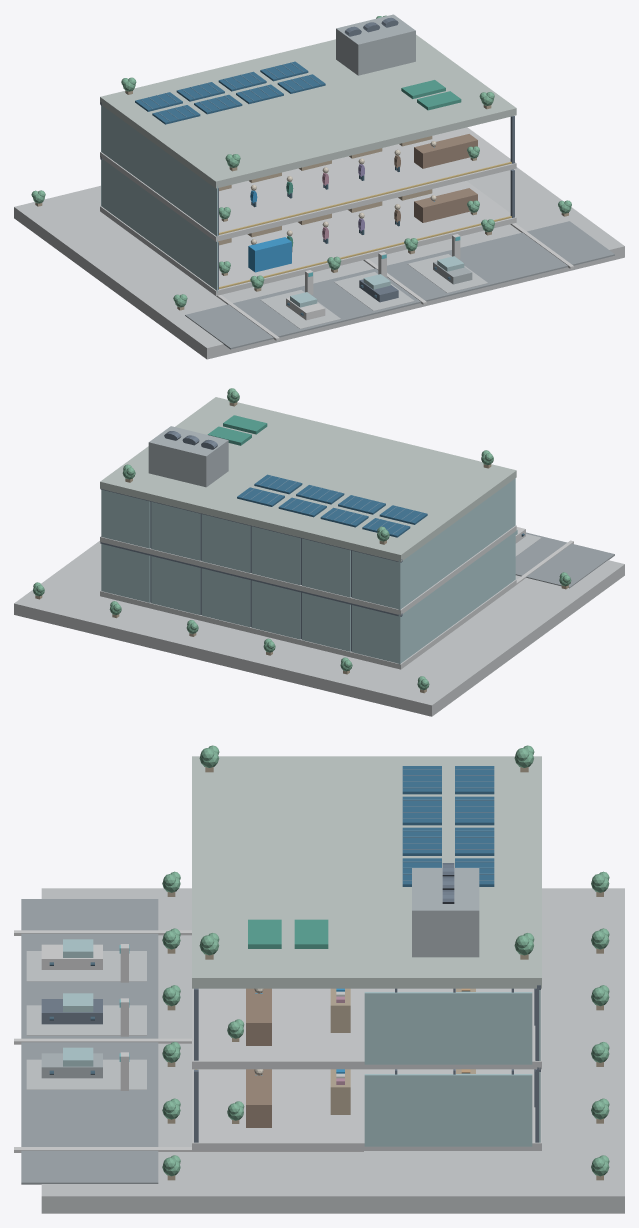
File: smart_retail.glb
The picture shows the model from 3 angles, top to bottom: view 1: azimuth 30°, elevation 25°; view 2: azimuth 150°, elevation 25°; view 3: azimuth 270°, elevation 25°; orthographic projection. The views are drawn at different scales.
Visible parts, largest first — view 1: GreenRoof_0308, SitePlinth_0001, FloorSlab_2_0195, EVParking_0002, FloorSlab_1_0081, WestFacade_0092, WestFacade_0206, PlantRoom_0365, Checkout_0275, Checkout_0161, ClickAndCollect_0186, ParkingBay_0012 (+14 smaller); view 2: GreenRoof_0308, SitePlinth_0001, WestFacade_0092, WestFacade_0206, PlantRoom_0365, EVParking_0002, FloorSlab_1_0081, FloorSlab_2_0195, RearGlass_0096, RearGlass_0097, RearGlass_0209, RearGlass_0095 (+19 smaller); view 3: GreenRoof_0308, SitePlinth_0001, EVParking_0002, FloorSlab_2_0195, FloorSlab_1_0081, SideGlass_0106, SideGlass_0220, PlantRoom_0365, ParkingBay_0003, ParkingBay_0012, ParkingBay_0021, Checkout_0161 (+18 smaller).
Boxes of the visible parts, x1=… form: GreenRoof_0308: x1=100, y1=34, x2=516, y2=188; SitePlinth_0001: x1=14, y1=167, x2=624, y2=359; FloorSlab_2_0195: x1=100, y1=127, x2=516, y2=241; EVParking_0002: x1=185, y1=221, x2=614, y2=349; FloorSlab_1_0081: x1=100, y1=181, x2=516, y2=295; WestFacade_0092: x1=101, y1=159, x2=217, y2=292; WestFacade_0206: x1=101, y1=105, x2=217, y2=236; PlantRoom_0365: x1=336, y1=14, x2=415, y2=75; Checkout_0275: x1=414, y1=134, x2=477, y2=168; Checkout_0161: x1=414, y1=188, x2=477, y2=222; ClickAndCollect_0186: x1=248, y1=237, x2=291, y2=272; ParkingBay_0012: x1=334, y1=272, x2=414, y2=310; GreenRoof_0308: x1=100, y1=397, x2=516, y2=561; SitePlinth_0001: x1=14, y1=541, x2=624, y2=716; WestFacade_0092: x1=398, y1=531, x2=515, y2=664; WestFacade_0206: x1=398, y1=478, x2=515, y2=610; PlantRoom_0365: x1=148, y1=426, x2=228, y2=487; EVParking_0002: x1=515, y1=532, x2=614, y2=588; FloorSlab_1_0081: x1=100, y1=579, x2=516, y2=669; FloorSlab_2_0195: x1=100, y1=525, x2=516, y2=615; RearGlass_0096: x1=201, y1=568, x2=250, y2=627; RearGlass_0097: x1=151, y1=556, x2=200, y2=614; RearGlass_0209: x1=251, y1=526, x2=300, y2=585; RearGlass_0095: x1=251, y1=580, x2=300, y2=639; GreenRoof_0308: x1=192, y1=756, x2=541, y2=988; SitePlinth_0001: x1=41, y1=888, x2=624, y2=1213; EVParking_0002: x1=21, y1=899, x2=158, y2=1184; FloorSlab_2_0195: x1=192, y1=988, x2=541, y2=1069; FloorSlab_1_0081: x1=192, y1=1069, x2=541, y2=1150; SideGlass_0106: x1=364, y1=1074, x2=532, y2=1146; SideGlass_0220: x1=364, y1=992, x2=532, y2=1064; PlantRoom_0365: x1=412, y1=868, x2=479, y2=957; ParkingBay_0003: x1=26, y1=951, x2=146, y2=981; ParkingBay_0012: x1=26, y1=1005, x2=146, y2=1035; ParkingBay_0021: x1=26, y1=1059, x2=146, y2=1089; Checkout_0161: x1=246, y1=1069, x2=271, y2=1127.
Size of the model in its own units: 25 by 9.38 by 20.95.
